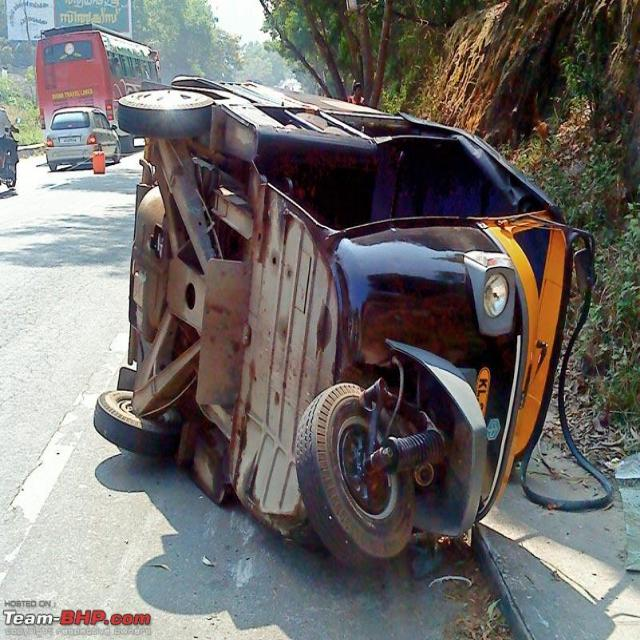accident: (95, 77, 584, 564)
bus: (36, 25, 160, 136)
car: (45, 107, 121, 170)
